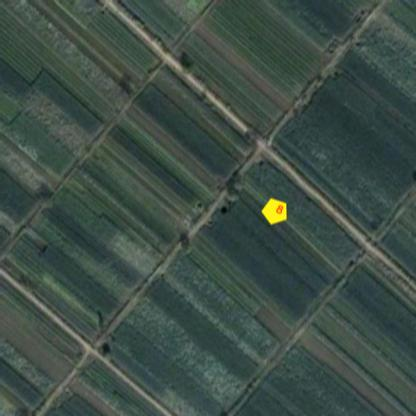8: (276, 204, 284, 217)
pentagon: (262, 197, 288, 227)
